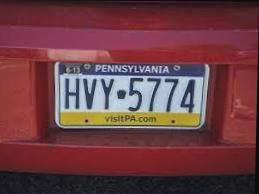License_Plate: (52, 62, 207, 130)
